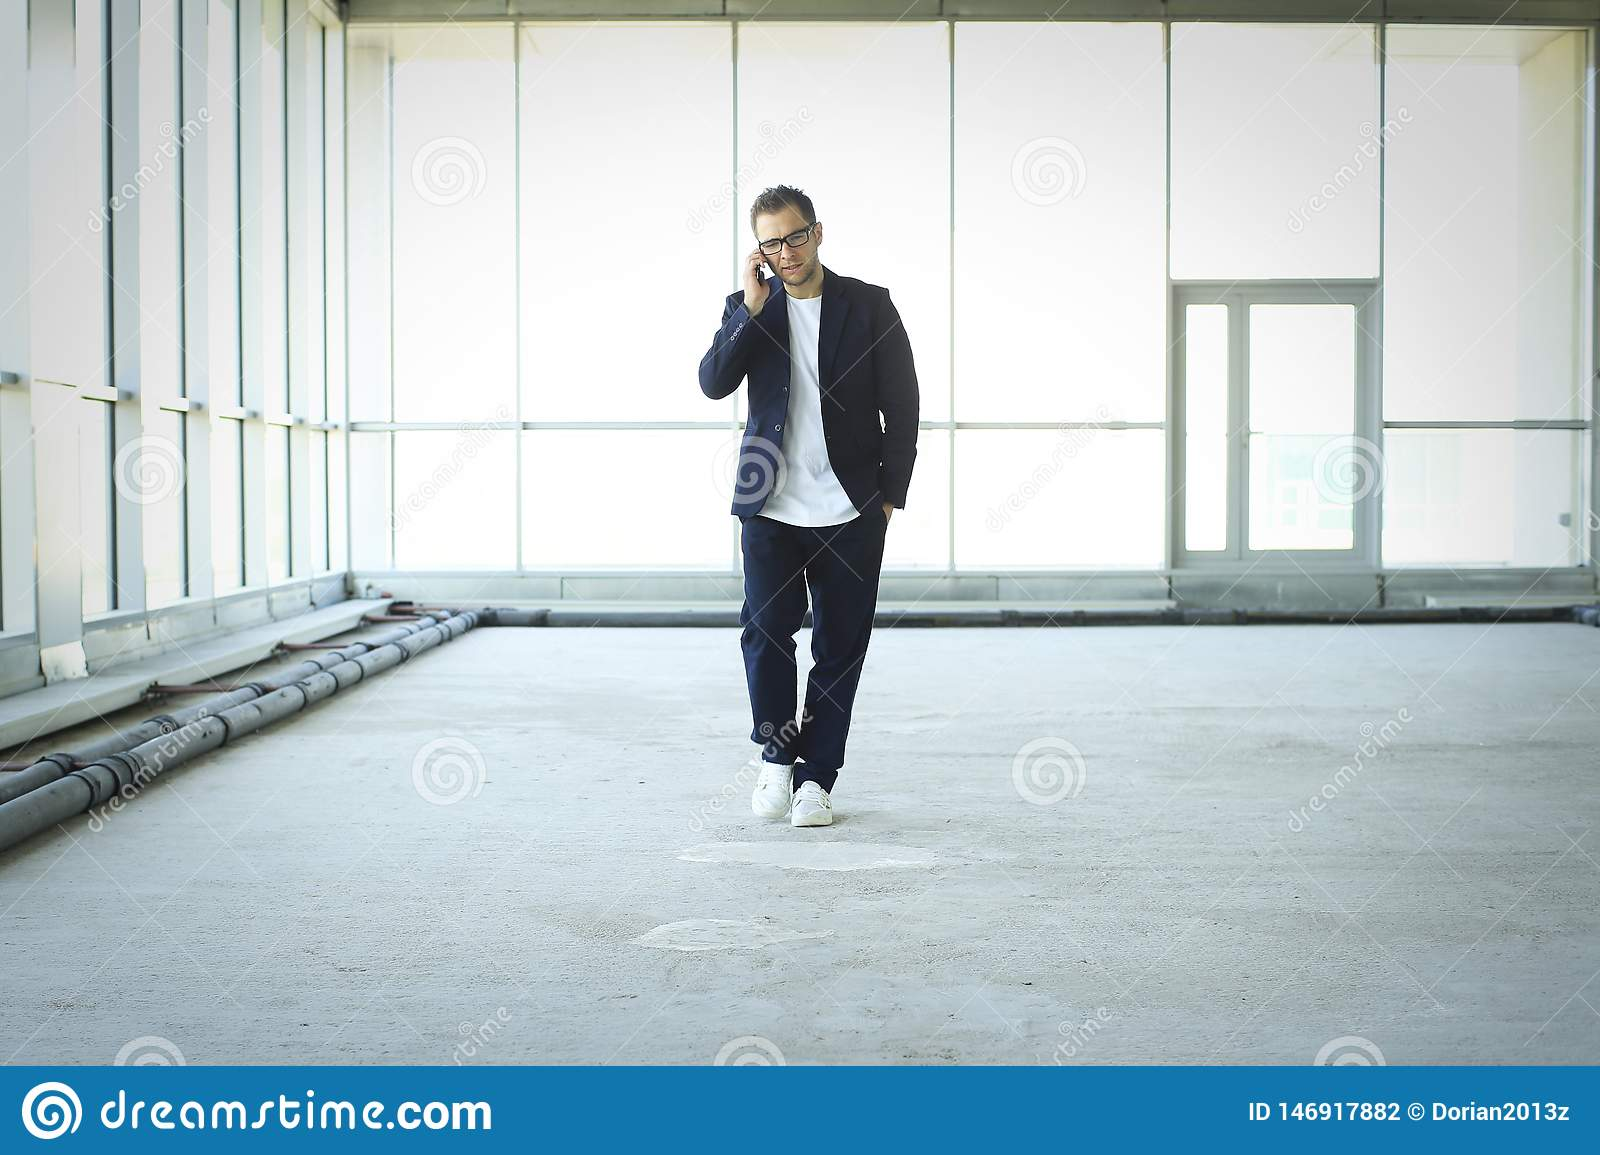phone: (753, 243, 766, 288)
talk: (744, 220, 812, 303)
